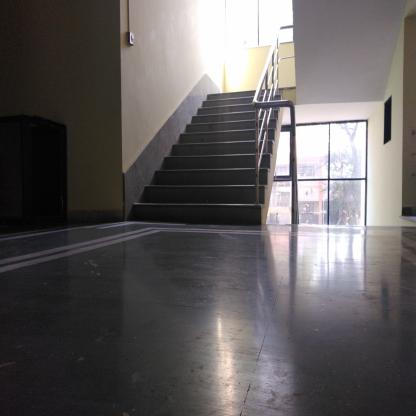stairs: (209, 92, 252, 230)
